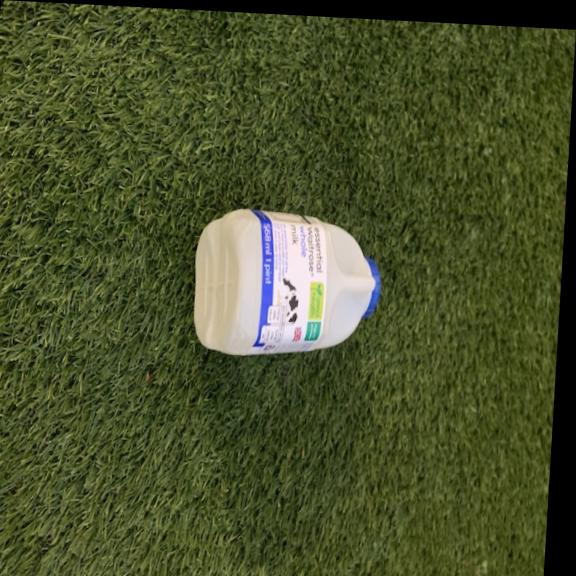Plastik: (186, 205, 388, 369)
